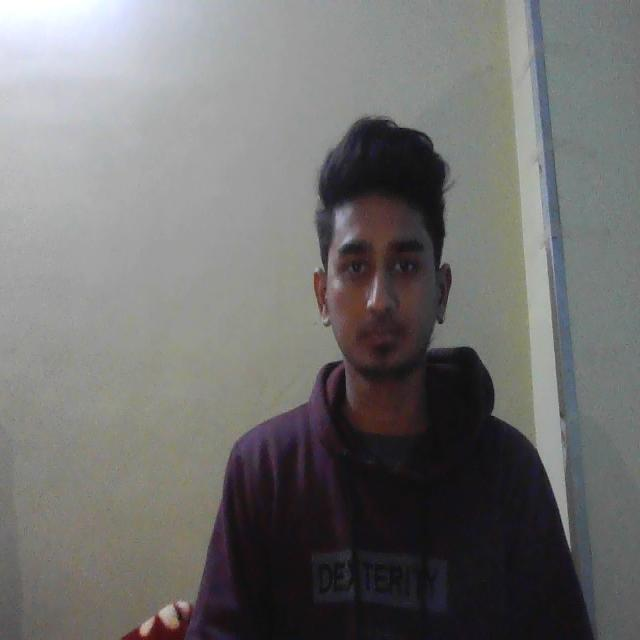real: (317, 135, 456, 397)
